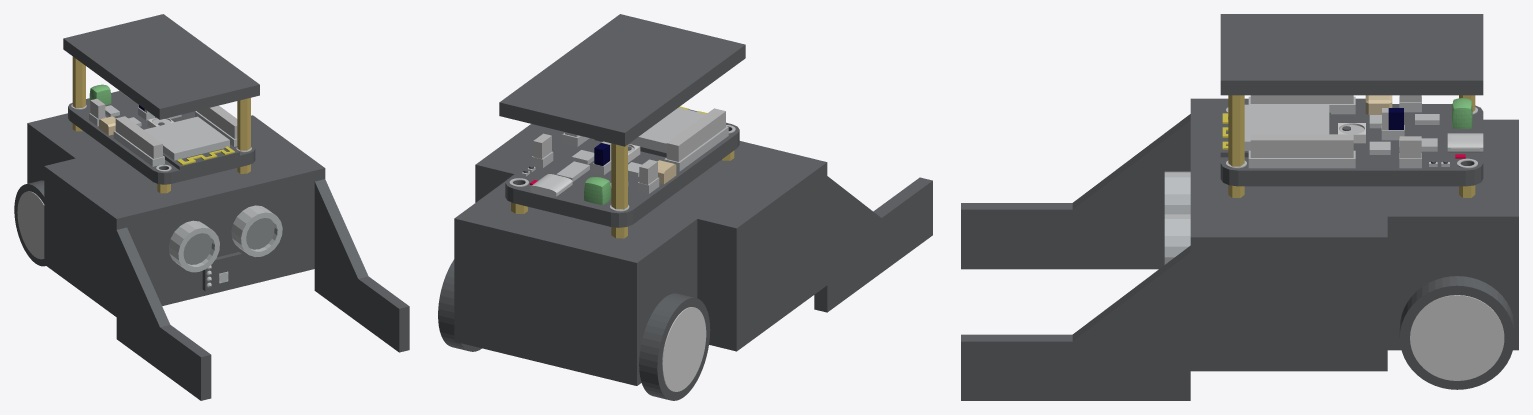
The model's file is Mini Rover.glb.
3 views of the same model, side by side, from view 1: azimuth 30°, elevation 25°; view 2: azimuth 150°, elevation 25°; view 3: azimuth 270°, elevation 25° (orthographic). The views are drawn at different scales.
Visible parts, largest first — view 1: Mesh_Mesh_head_geo.001_lambert2SG.001; view 2: Mesh_Mesh_head_geo.001_lambert2SG.001; view 3: Mesh_Mesh_head_geo.001_lambert2SG.001.
Boxes of the visible parts, x1,y1,x2,y2 form: Mesh_Mesh_head_geo.001_lambert2SG.001: (14,14,409,400); Mesh_Mesh_head_geo.001_lambert2SG.001: (438,14,932,400); Mesh_Mesh_head_geo.001_lambert2SG.001: (961,14,1518,400).
Size of the model in its own units: 9.99 by 9.56 by 17.
